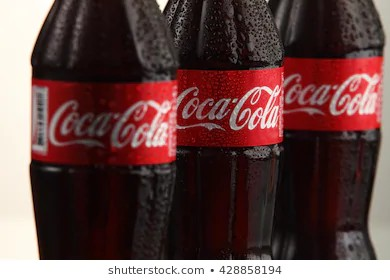coke-glass-bottle: (29, 1, 174, 256), (278, 1, 381, 256), (176, 1, 276, 263)
